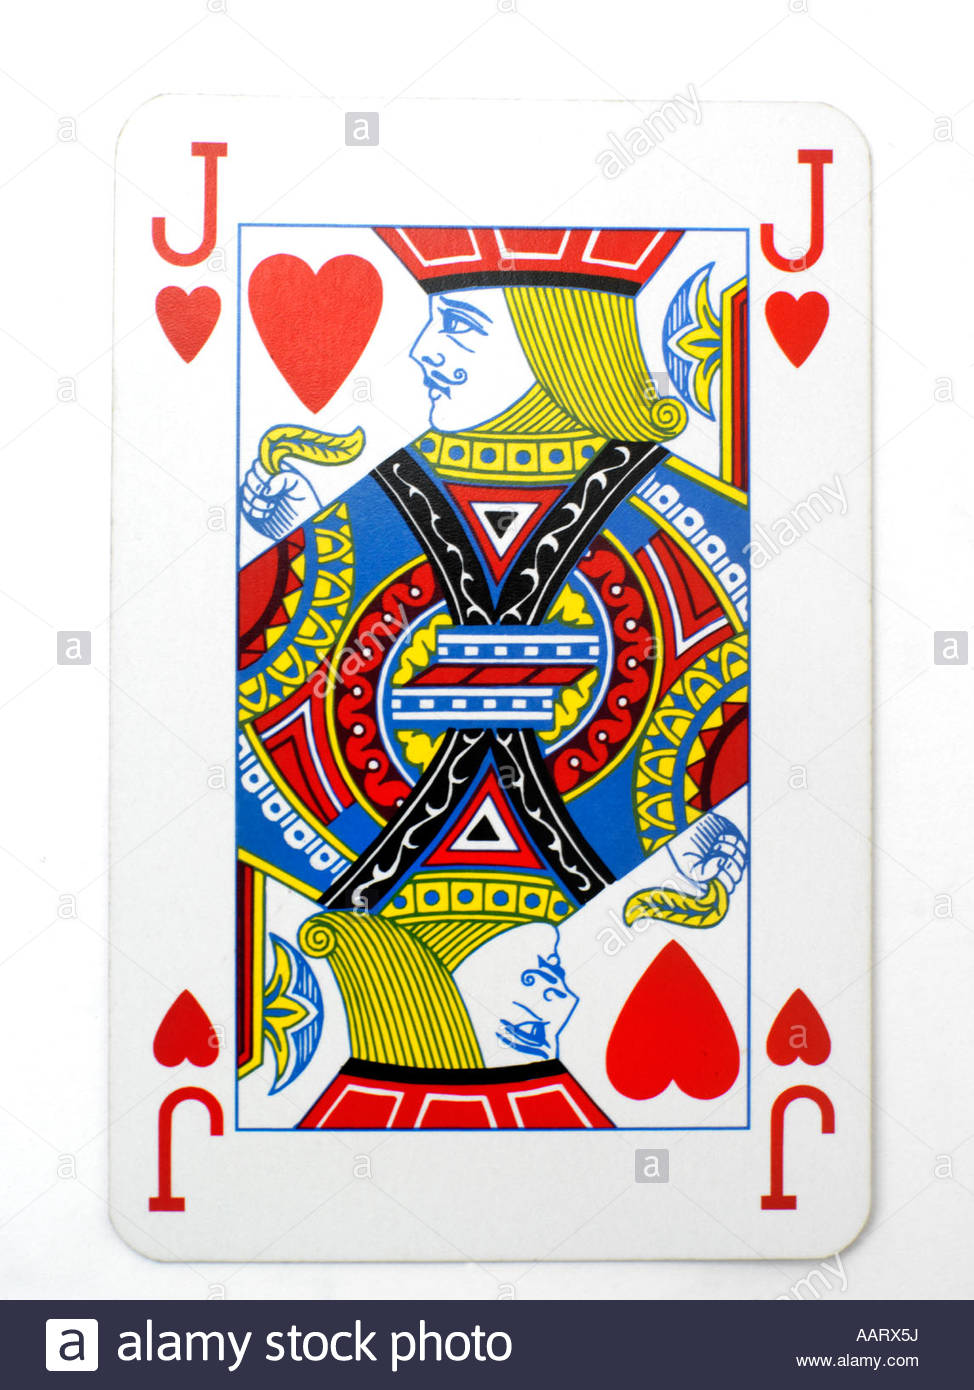jack of hearts: (116, 95, 868, 1270)
